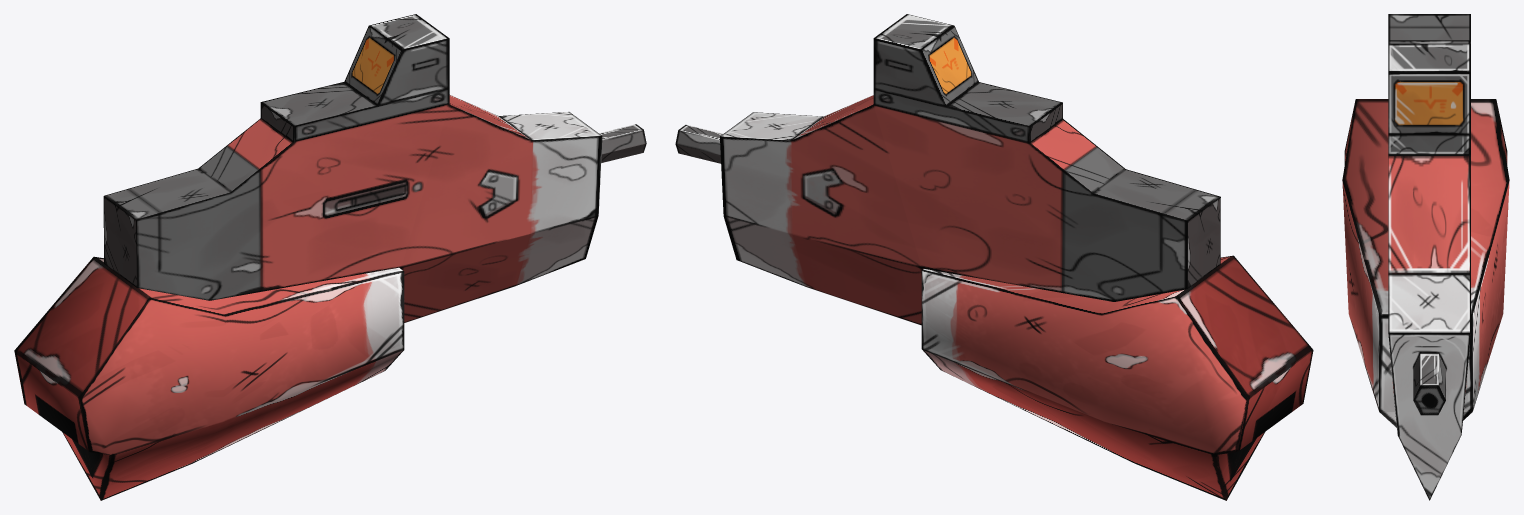
The model's file is StandardProjectile_v1.fbx.
The picture shows the model from 3 angles, left to right: view 1: azimuth 30°, elevation 25°; view 2: azimuth 150°, elevation 25°; view 3: azimuth 270°, elevation 25°; orthographic projection. The views are drawn at different scales.
Parts seen in each view (by area): view 1: StandardProjectileGun1; view 2: StandardProjectileGun1; view 3: StandardProjectileGun1.
Boxes of the visible parts, x1,y1,x2,y2 form: StandardProjectileGun1: [14, 14, 646, 500]; StandardProjectileGun1: [675, 14, 1313, 500]; StandardProjectileGun1: [1342, 14, 1509, 500].
Bounding box in the file's own units: 2.04 × 1.28 × 0.3986.
